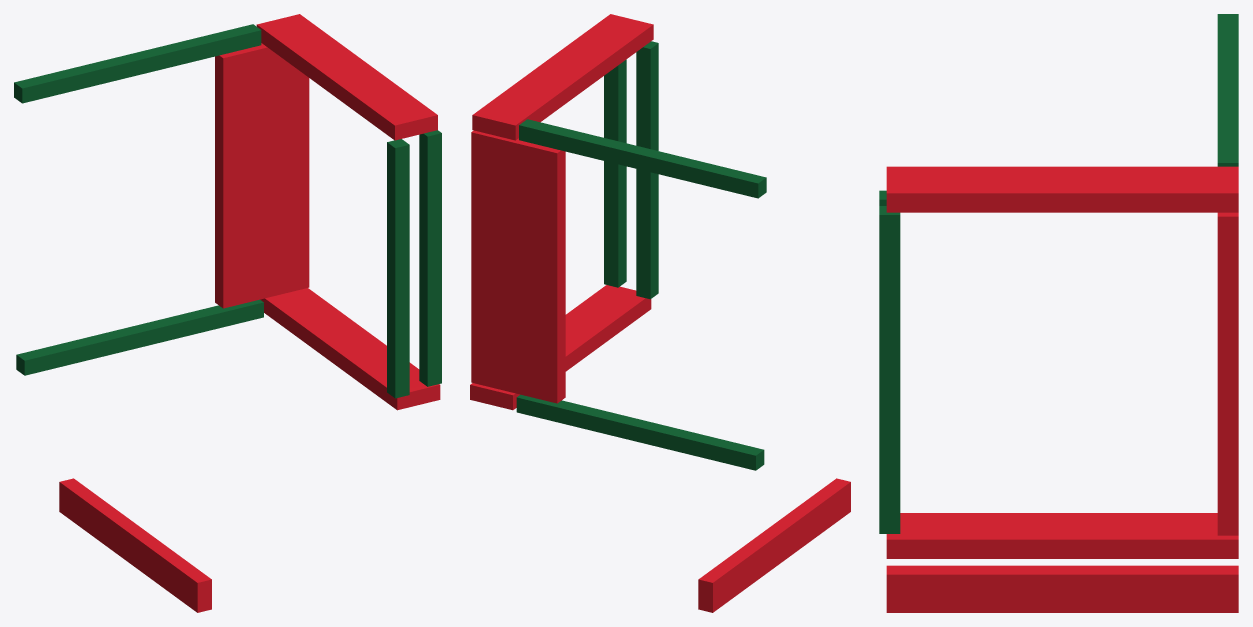
Rendered from tinker.obj.
3 renders of one model, left to right at view 1: azimuth 30°, elevation 25°; view 2: azimuth 150°, elevation 25°; view 3: azimuth 270°, elevation 25°, orthographic. The views are drawn at different scales.
Parts seen in each view (by area): view 1: group_0_15277357, group_0_1206582; view 2: group_0_15277357, group_0_1206582; view 3: group_0_15277357, group_0_1206582.
Part boxes in pixels (<box>): group_0_15277357: <box>59,14,440,612</box>; group_0_1206582: <box>14,24,441,398</box>; group_0_15277357: <box>470,14,850,612</box>; group_0_1206582: <box>516,41,766,470</box>; group_0_15277357: <box>886,166,1238,612</box>; group_0_1206582: <box>879,14,1238,533</box>.
Bounding box in the file's own units: 241 × 352 × 204.
